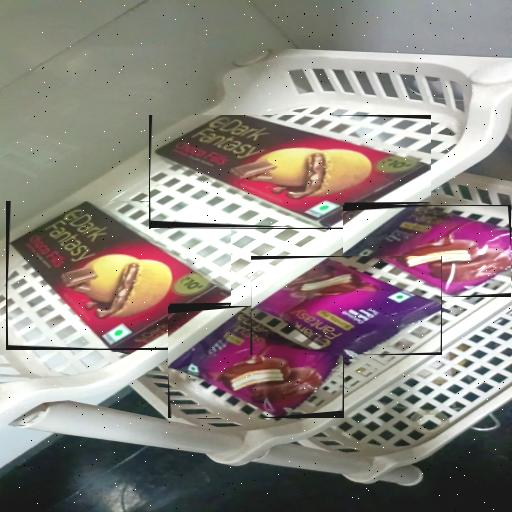Choco Fills: (6, 201, 231, 350), (149, 116, 431, 230)
Choco Pie: (168, 306, 344, 418), (251, 256, 442, 355), (343, 205, 511, 297)
